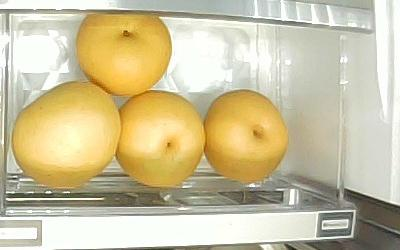pear: (11, 81, 122, 191), (115, 91, 206, 186), (75, 12, 172, 97), (204, 90, 290, 184)
